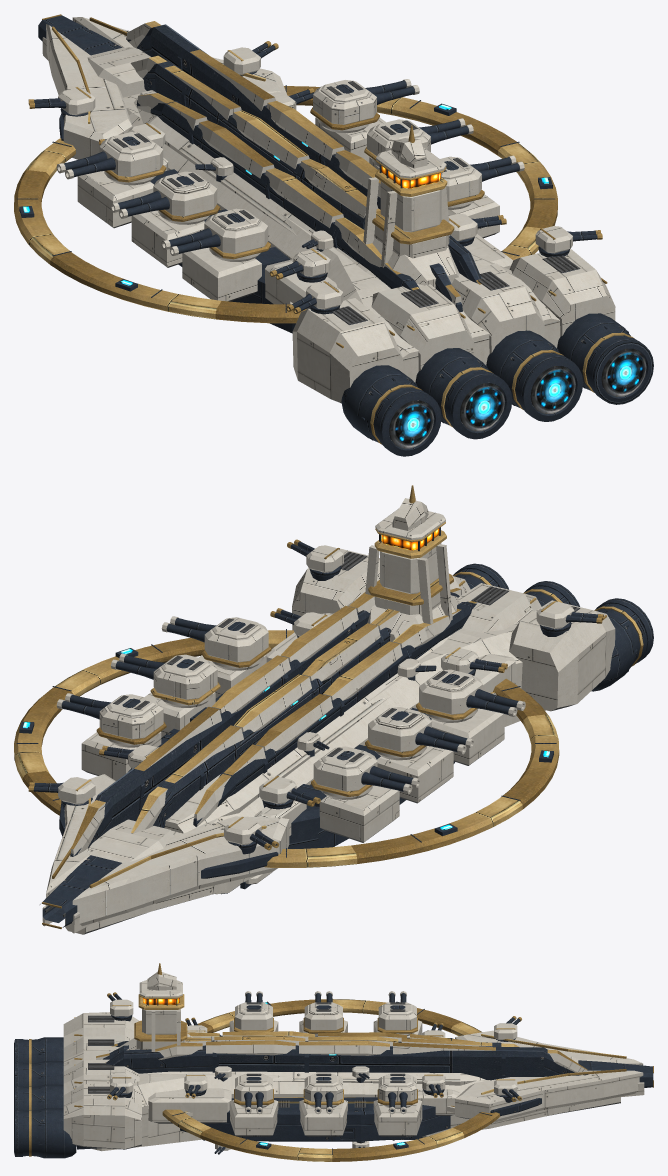
The model's file is authority-arbiter.glb.
The picture shows the model from 3 angles, top to bottom: view 1: azimuth 30°, elevation 25°; view 2: azimuth 150°, elevation 25°; view 3: azimuth 270°, elevation 25°; orthographic projection. The views are drawn at different scales.
Parts seen in each view (by area): view 1: hull / Authority ivory, navy and antique gold, interdiction-halo / Authority ivory, navy and antique gold, turret-starboard-1 / Authority ivory, navy and antique gold, turret-port-1 / Authority ivory, navy and antique gold, turret-port-2 / Authority ivory, navy and antique gold, turret-port-3 / Authority ivory, navy and antique gold, turret-starboard-3 / Authority ivory, navy and antique gold, turret-starboard-2 / Authority ivory, navy and antique gold, secondary-starboard-4 / Authority ivory, navy and antique go, secondary-port-1 / Authority ivory, navy and antique gold, secondary-port-3 / Authority ivory, navy and antique gold, secondary-port-4 / Authority ivory, navy and antique gold (+2 smaller); view 2: hull / Authority ivory, navy and antique gold, interdiction-halo / Authority ivory, navy and antique gold, turret-starboard-3 / Authority ivory, navy and antique gold, turret-starboard-1 / Authority ivory, navy and antique gold, turret-starboard-2 / Authority ivory, navy and antique gold, turret-port-1 / Authority ivory, navy and antique gold, turret-port-3 / Authority ivory, navy and antique gold, turret-port-2 / Authority ivory, navy and antique gold, secondary-starboard-1 / Authority ivory, navy and antique go, secondary-port-4 / Authority ivory, navy and antique gold, secondary-port-2 / Authority ivory, navy and antique gold, secondary-starboard-4 / Authority ivory, navy and antique go (+4 smaller); view 3: hull / Authority ivory, navy and antique gold, interdiction-halo / Authority ivory, navy and antique gold, turret-port-1 / Authority ivory, navy and antique gold, turret-port-2 / Authority ivory, navy and antique gold, turret-starboard-2 / Authority ivory, navy and antique gold, turret-starboard-1 / Authority ivory, navy and antique gold, turret-starboard-3 / Authority ivory, navy and antique gold, turret-port-3 / Authority ivory, navy and antique gold, hull / Ventral hangar and keel plating, secondary-starboard-1 / Authority ivory, navy and antique go, secondary-port-4 / Authority ivory, navy and antique gold, secondary-starboard-4 / Authority ivory, navy and antique go (+3 smaller).
Part boxes in pixels (x1,y1,x2,y2): hull / Authority ivory, navy and antique gold: (38,14,653,456); interdiction-halo / Authority ivory, navy and antique gold: (14,85,557,323); turret-starboard-1 / Authority ivory, navy and antique gold: (310,79,419,130); turret-port-1 / Authority ivory, navy and antique gold: (56,132,166,182); turret-port-2 / Authority ivory, navy and antique gold: (110,171,220,221); turret-port-3 / Authority ivory, navy and antique gold: (161,208,270,259); turret-starboard-3 / Authority ivory, navy and antique gold: (440,155,524,206); turret-starboard-2 / Authority ivory, navy and antique gold: (364,118,473,160); secondary-starboard-4 / Authority ivory, navy and antique go: (535,226,602,253); secondary-port-1 / Authority ivory, navy and antique gold: (28,87,95,115); secondary-port-3 / Authority ivory, navy and antique gold: (269,248,330,279); secondary-port-4 / Authority ivory, navy and antique gold: (286,281,343,313); hull / Authority ivory, navy and antique gold: (40,485,653,934); interdiction-halo / Authority ivory, navy and antique gold: (14,629,559,867); turret-starboard-3 / Authority ivory, navy and antique gold: (161,616,271,667); turret-starboard-1 / Authority ivory, navy and antique gold: (56,693,166,744); turret-starboard-2 / Authority ivory, navy and antique gold: (111,653,220,705); turret-port-1 / Authority ivory, navy and antique gold: (311,746,420,796); turret-port-3 / Authority ivory, navy and antique gold: (416,669,525,719); turret-port-2 / Authority ivory, navy and antique gold: (365,707,474,757); secondary-starboard-1 / Authority ivory, navy and antique go: (28,777,95,804); secondary-port-4 / Authority ivory, navy and antique gold: (536,600,603,628); secondary-port-2 / Authority ivory, navy and antique gold: (259,776,320,806); secondary-starboard-4 / Authority ivory, navy and antique go: (287,539,343,572); hull / Authority ivory, navy and antique gold: (14,963,653,1156); interdiction-halo / Authority ivory, navy and antique gold: (162,998,500,1161); turret-port-1 / Authority ivory, navy and antique gold: (377,991,417,1033); turret-port-2 / Authority ivory, navy and antique gold: (303,991,343,1033); turret-starboard-2 / Authority ivory, navy and antique gold: (303,1073,343,1114); turret-starboard-1 / Authority ivory, navy and antique gold: (377,1073,417,1114); turret-starboard-3 / Authority ivory, navy and antique gold: (234,1073,273,1114); turret-port-3 / Authority ivory, navy and antique gold: (234,991,273,1031); hull / Ventral hangar and keel plating: (23,1102,620,1158); secondary-starboard-1 / Authority ivory, navy and antique go: (494,1078,521,1101); secondary-port-4 / Authority ivory, navy and antique gold: (107,992,133,1016); secondary-starboard-4 / Authority ivory, navy and antique go: (107,1076,133,1100).
Size of the model in its own units: 13.84 by 6.91 by 23.73.
Materials: 2 (2 with a texture image).
